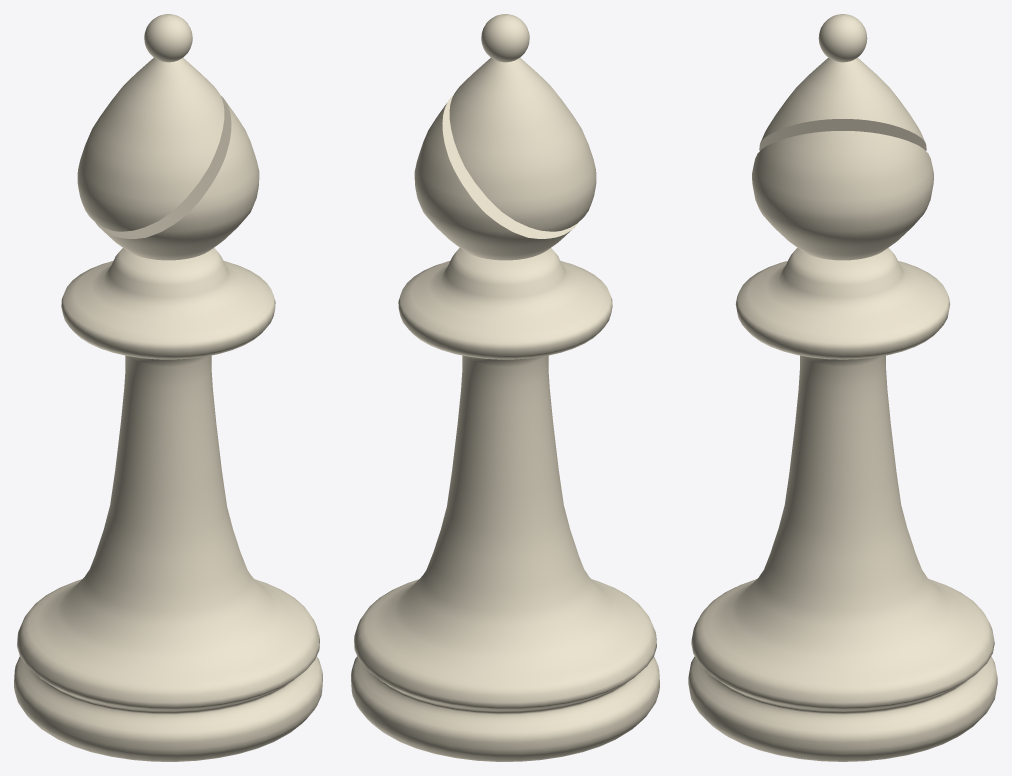
File: white_bishop.glb
The picture shows the model from 3 angles, left to right: view 1: azimuth 30°, elevation 25°; view 2: azimuth 150°, elevation 25°; view 3: azimuth 270°, elevation 25°; orthographic projection.
Visible parts, largest first — view 1: white bishop; view 2: white bishop; view 3: white bishop.
Part boxes in pixels (x1,y1,x2,y2): white bishop: (14,14,322,761); white bishop: (351,14,659,761); white bishop: (688,14,997,761).
Size of the model in its own units: 0.0382 by 0.0945 by 0.0382.
